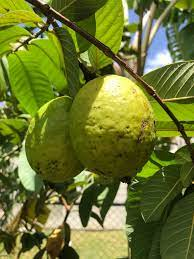guava: (43, 53, 181, 239)
